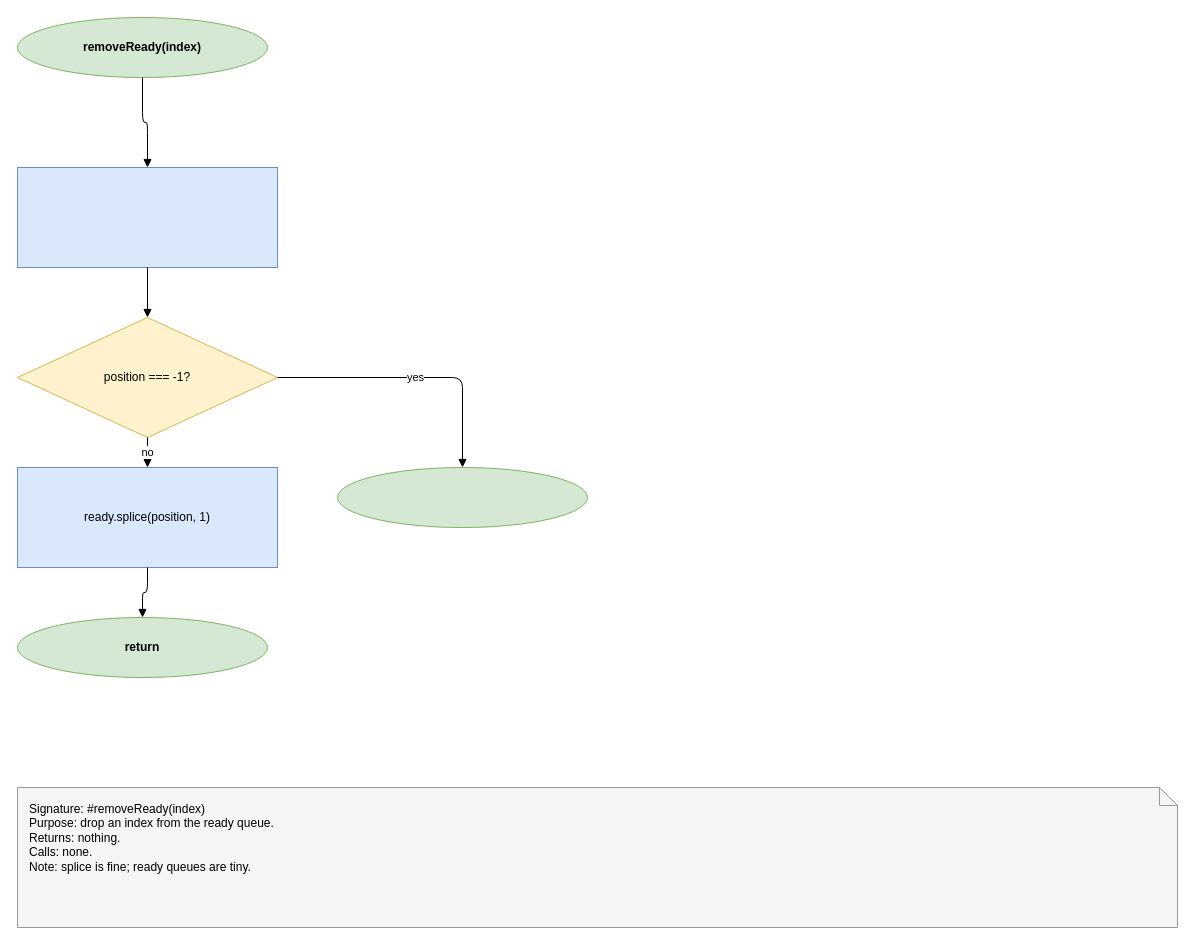
Image size: 1195x945. Some labels were removed from this diagram. Here are the shapes that lost their labels. From the top down, the centre of each, then its label:
point 147,217: position = ready.indexOf(index)
point 462,497: return: not in queue
